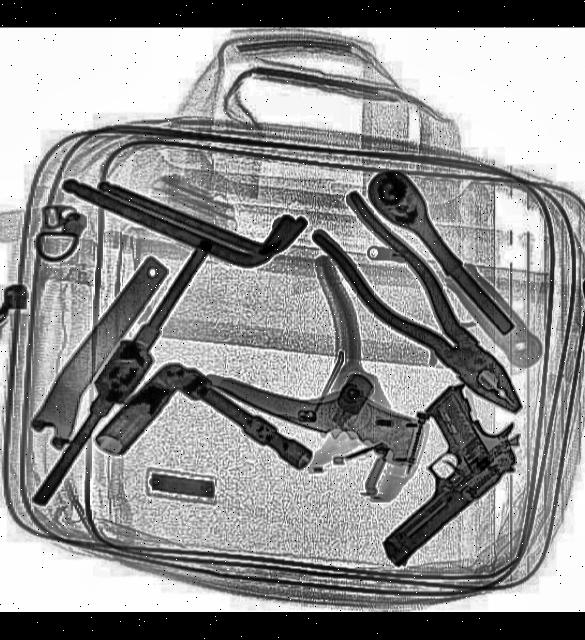Gun: (328, 370, 534, 568)
Pliers: (300, 185, 541, 438)
